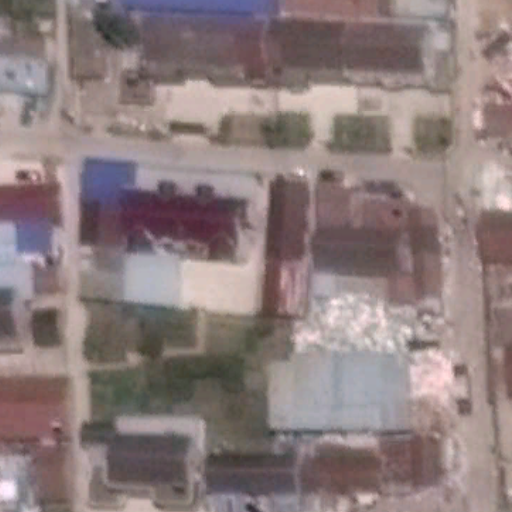msw: (295, 291, 452, 395)
